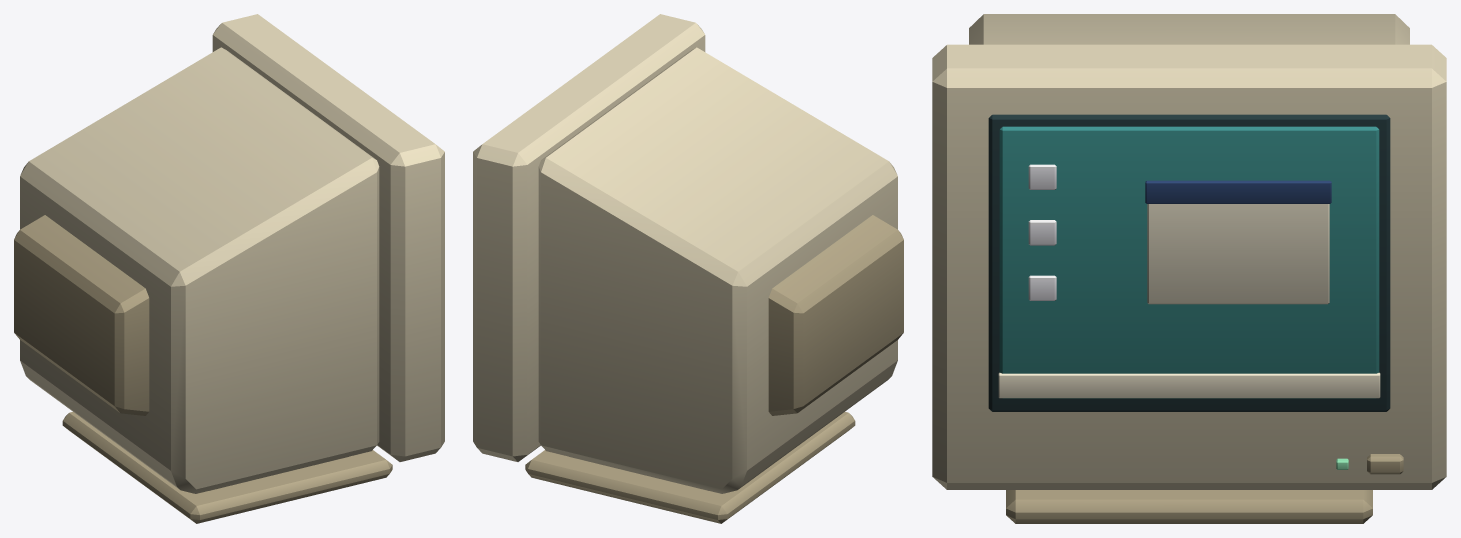
Rendered from CRT_Monitor.fbx.
3 views of the same model, side by side, from view 1: azimuth 30°, elevation 25°; view 2: azimuth 150°, elevation 25°; view 3: azimuth 270°, elevation 25° (orthographic). The views are drawn at different scales.
Parts seen in each view (by area): view 1: CRT_Monitor; view 2: CRT_Monitor; view 3: CRT_Monitor.
Part boxes in pixels (x1,y1,x2,y2): CRT_Monitor: [14, 14, 444, 523]; CRT_Monitor: [473, 14, 903, 523]; CRT_Monitor: [932, 14, 1446, 523].
Size of the model in its own units: 1.73 by 1.91 by 1.89.
Materials: 1 (1 with a texture image).
